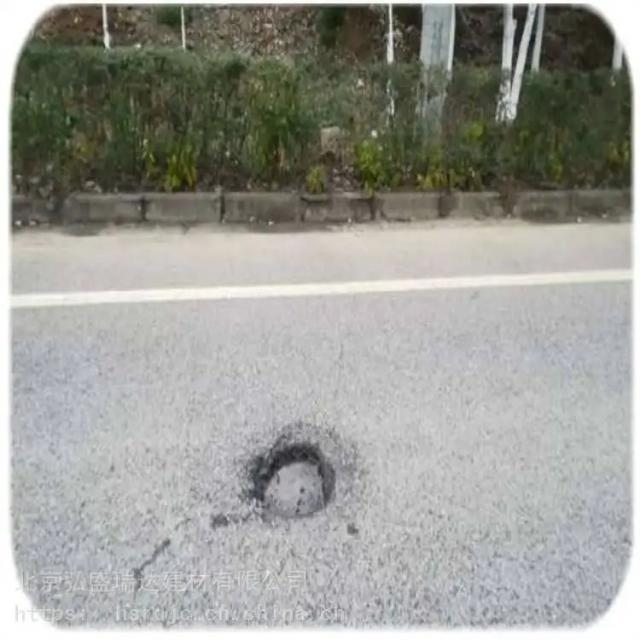Pothole: (251, 445, 339, 522)
